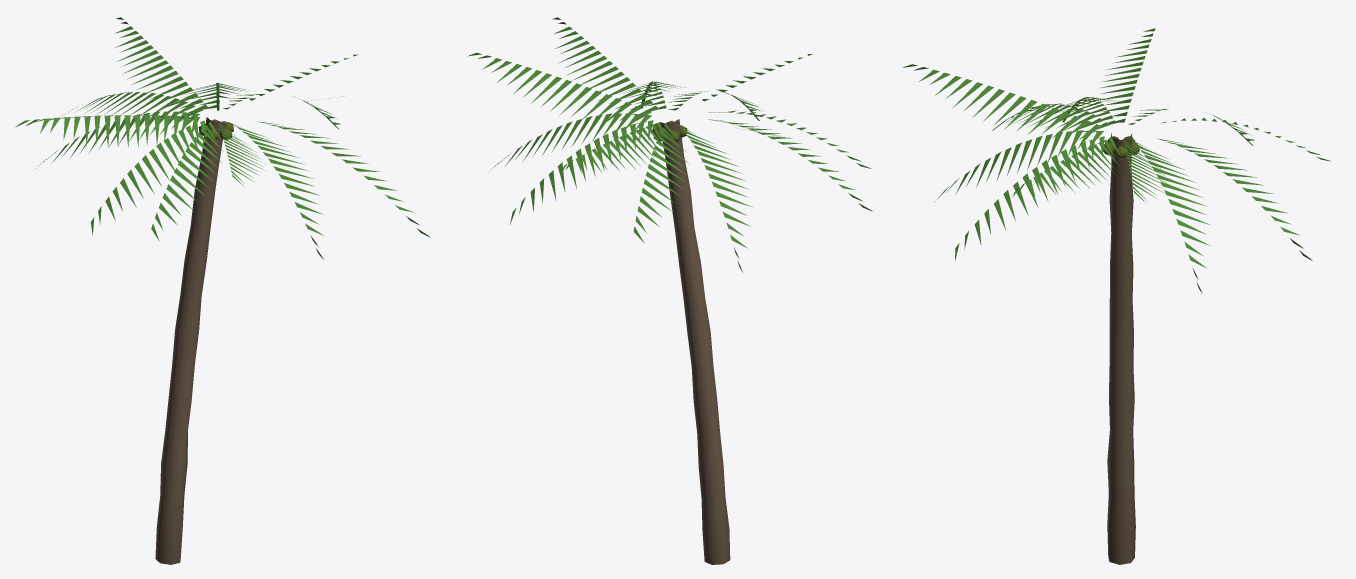
File: tr-coco.glb
3 views of the same model, side by side, from view 1: azimuth 30°, elevation 25°; view 2: azimuth 150°, elevation 25°; view 3: azimuth 270°, elevation 25° (orthographic). The views are drawn at different scales.
Visible parts, largest first — view 1: tr-coco; view 2: tr-coco; view 3: tr-coco.
Part boxes in pixels (box(x1,y1,x2,y2)): tr-coco: box(15, 17, 430, 564); tr-coco: box(468, 17, 873, 564); tr-coco: box(902, 28, 1331, 564).
Size of the model in its own units: 7.91 by 9.15 by 7.63.
